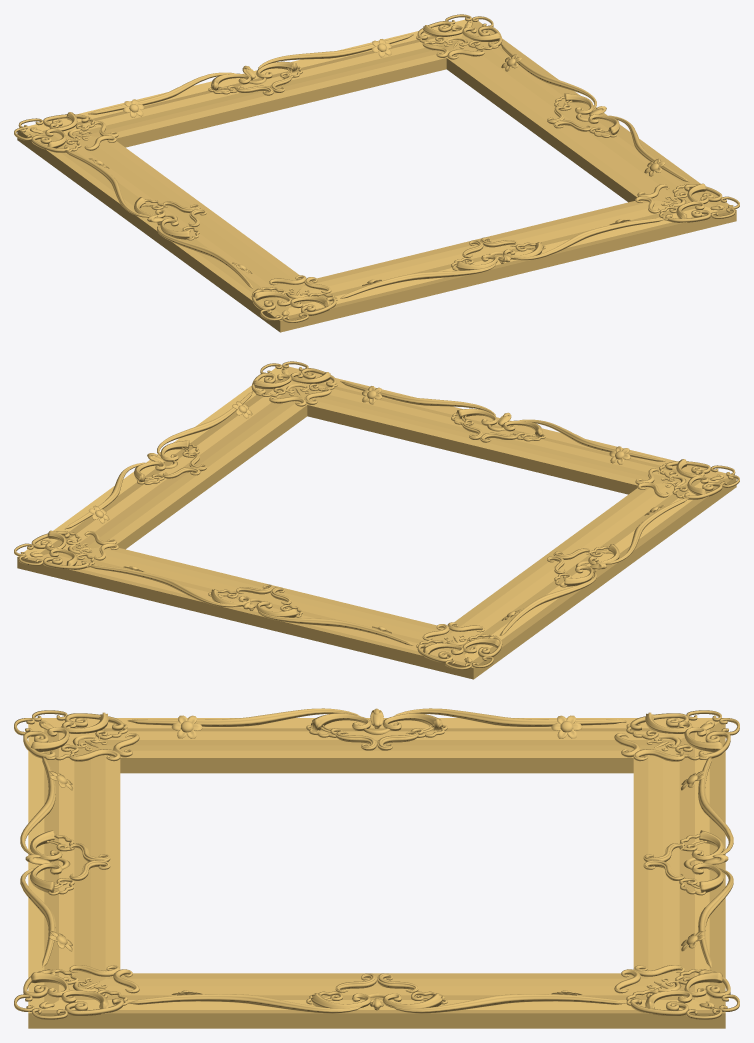
File: Baroque Frame.fbx
The picture shows the model from 3 angles, top to bottom: view 1: azimuth 30°, elevation 25°; view 2: azimuth 150°, elevation 25°; view 3: azimuth 270°, elevation 25°; orthographic projection. The views are drawn at different scales.
Visible parts, largest first — view 1: Frame, BezierCurve.015, BezierCurve.014, BezierCurve.023, BezierCurve.044, BezierCurve.017, BezierCurve.020, BezierCurve.021, Flower, BezierCurve.024, BezierCurve.025; view 2: Frame, BezierCurve.015, BezierCurve.014, BezierCurve.023, BezierCurve.044, BezierCurve.017, BezierCurve.020, BezierCurve.021, Flower, BezierCurve.024, BezierCurve.025; view 3: Frame, BezierCurve.015, BezierCurve.014, BezierCurve.044, BezierCurve.023, BezierCurve.020, BezierCurve.017, BezierCurve.021, Flower, BezierCurve.024, BezierCurve.025, BezierCurve.001 (+1 smaller).
Boxes of the visible parts, x1,y1,x2,y2 form: Frame: (17,18,736,332); BezierCurve.015: (64,34,688,298); BezierCurve.014: (134,61,619,270); BezierCurve.023: (31,21,722,315); BezierCurve.044: (45,25,708,308); BezierCurve.017: (162,75,591,257); BezierCurve.020: (84,41,669,293); BezierCurve.021: (14,14,739,322); Flower: (89,39,664,286); BezierCurve.024: (144,66,616,270); BezierCurve.025: (65,36,687,300); Frame: (17,365,736,679); BezierCurve.015: (65,381,688,645); BezierCurve.014: (134,408,619,617); BezierCurve.023: (31,368,722,662); BezierCurve.044: (45,372,708,655); BezierCurve.017: (162,422,591,604); BezierCurve.020: (84,388,669,640); BezierCurve.021: (14,361,739,669); Flower: (89,386,664,633); BezierCurve.024: (137,413,609,617); BezierCurve.025: (66,383,689,647); Frame: (28,718,725,1028); BezierCurve.015: (20,708,733,1013); BezierCurve.014: (30,713,723,1008); BezierCurve.044: (31,712,722,1008); BezierCurve.023: (23,713,730,1015); BezierCurve.020: (69,733,684,993); BezierCurve.017: (69,731,684,992); BezierCurve.021: (14,710,739,1019); Flower: (49,715,704,995); BezierCurve.024: (48,725,705,1004); BezierCurve.025: (45,723,708,1005); BezierCurve.001: (25,708,728,1010).
Size of the model in its own units: 471 by 19.49 by 471.
